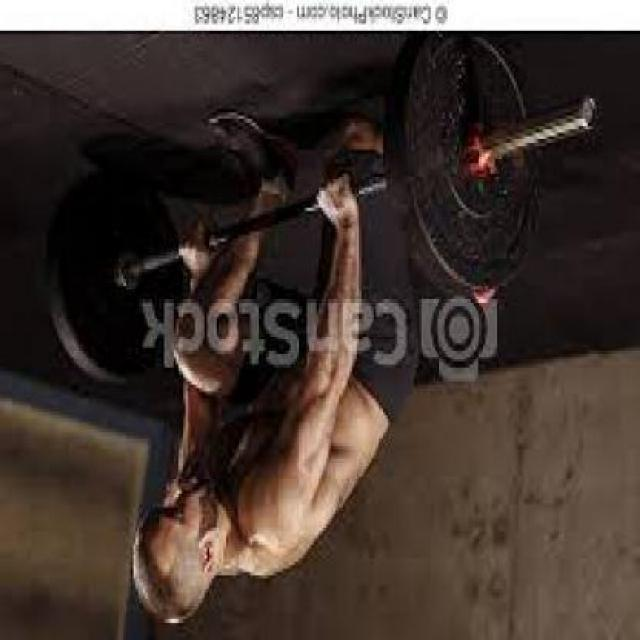Barbell: (575, 88, 600, 136)
